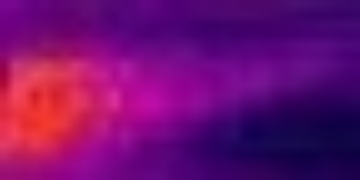Shadow: (134, 89, 360, 180), (134, 1, 360, 88), (1, 1, 134, 64)
